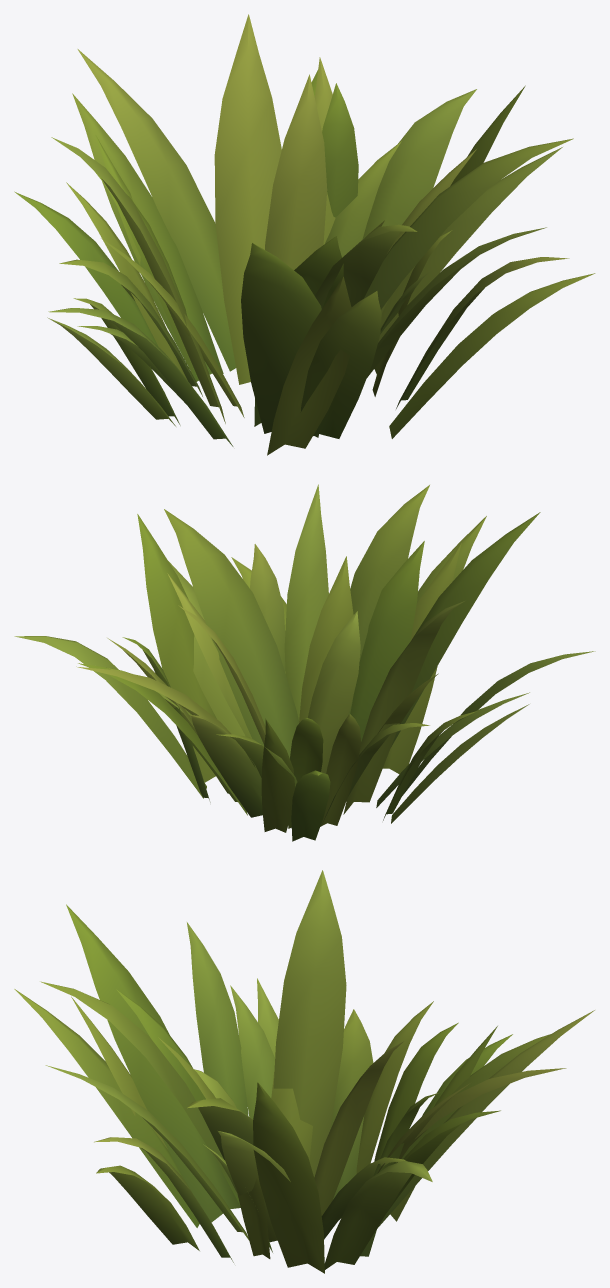
File: grass_meadow.glb
The picture shows the model from 3 angles, top to bottom: view 1: azimuth 30°, elevation 25°; view 2: azimuth 150°, elevation 25°; view 3: azimuth 270°, elevation 25°; orthographic projection. The views are drawn at different scales.
Visible parts, largest first — view 1: Plant; view 2: Plant; view 3: Plant.
Part boxes in pixels (bbox=[...]): Plant: bbox=[14, 14, 595, 455]; Plant: bbox=[14, 484, 595, 841]; Plant: bbox=[14, 870, 594, 1273].
Bounding box in the file's own units: 0.9104 × 0.4633 × 0.917.
